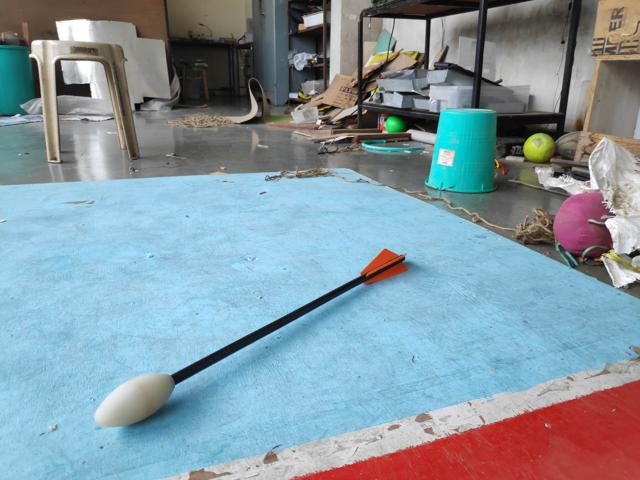Head: (91, 371, 177, 431)
Tail: (359, 245, 412, 286)
